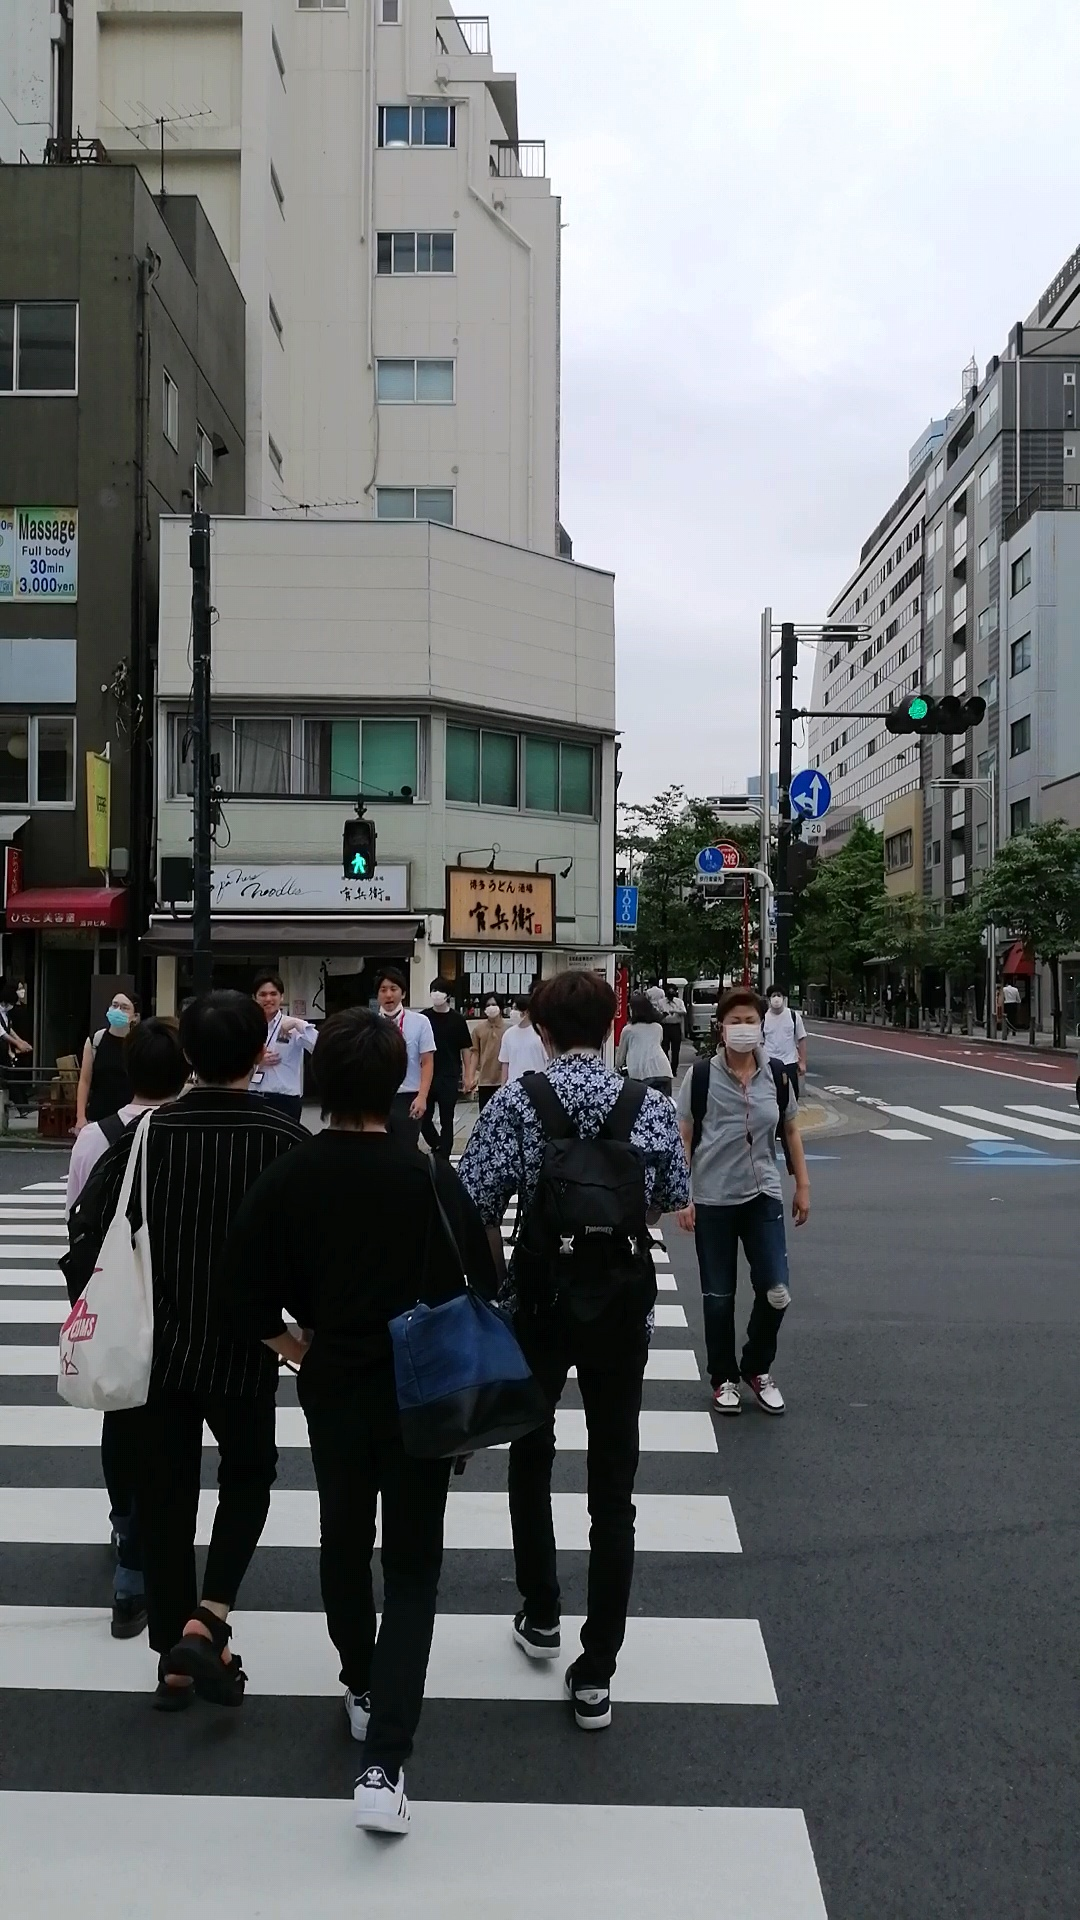green: (340, 818, 376, 880)
